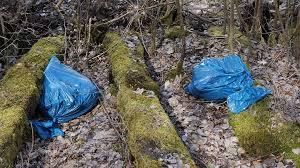Plastic bag: (182, 44, 278, 115), (29, 49, 100, 144)
